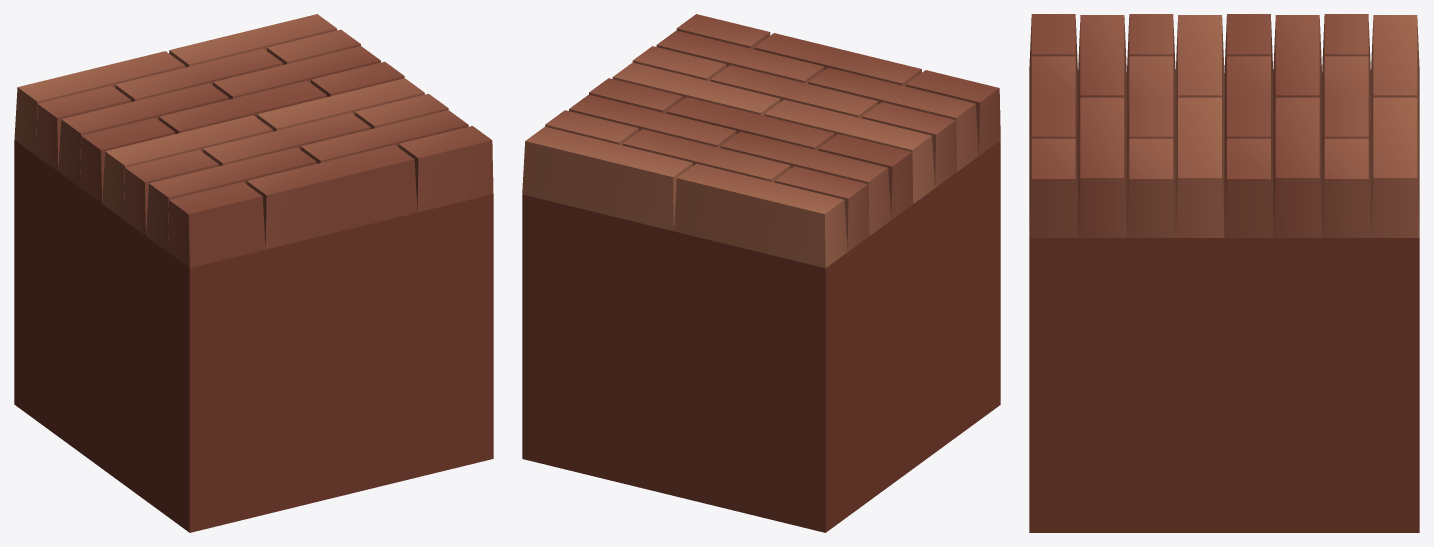
Rendered from floor_wood.glb.
The picture shows the model from 3 angles, left to right: view 1: azimuth 30°, elevation 25°; view 2: azimuth 150°, elevation 25°; view 3: azimuth 270°, elevation 25°; orthographic projection. The views are drawn at different scales.
Visible parts, largest first — view 1: floor_wood_large; view 2: floor_wood_large; view 3: floor_wood_large.
Boxes of the visible parts, left/top/right/bottom form: floor_wood_large: left=14, top=14, right=493, bottom=532; floor_wood_large: left=522, top=14, right=1000, bottom=532; floor_wood_large: left=1029, top=14, right=1419, bottom=532.
Size of the model in its own units: 1 by 1 by 1.
1 material, 1 textured.
